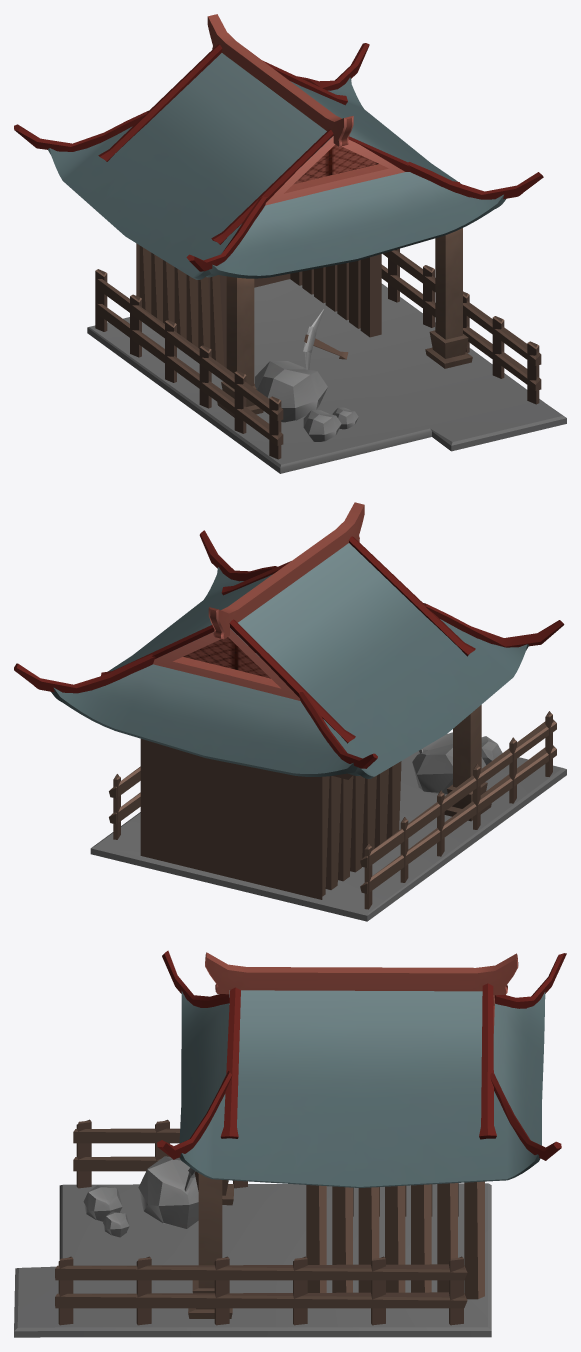
File: mine_2lvl.fbx
The picture shows the model from 3 angles, top to bottom: view 1: azimuth 30°, elevation 25°; view 2: azimuth 150°, elevation 25°; view 3: azimuth 270°, elevation 25°; orthographic projection. The views are drawn at different scales.
Visible parts, largest first — view 1: mine_2lvl; view 2: mine_2lvl; view 3: mine_2lvl.
Part boxes in pixels (box(x1,y1,x2,y2)): mine_2lvl: box(14, 14, 566, 473); mine_2lvl: box(14, 502, 566, 921); mine_2lvl: box(14, 950, 566, 1337).
Bounding box in the file's own units: 5.31 × 3.94 × 6.37.
Materials: 1 (1 with a texture image).
